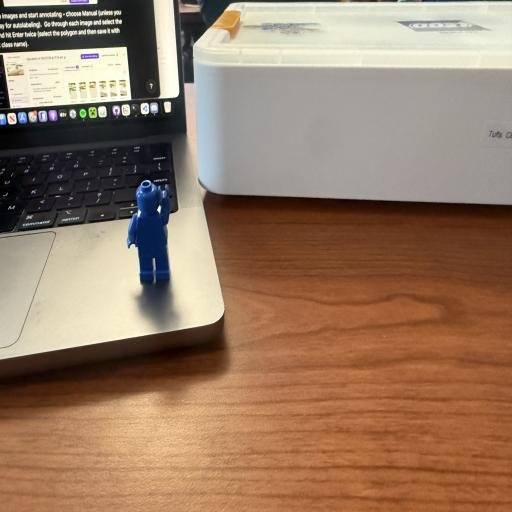Minifig: (127, 181, 169, 281)
